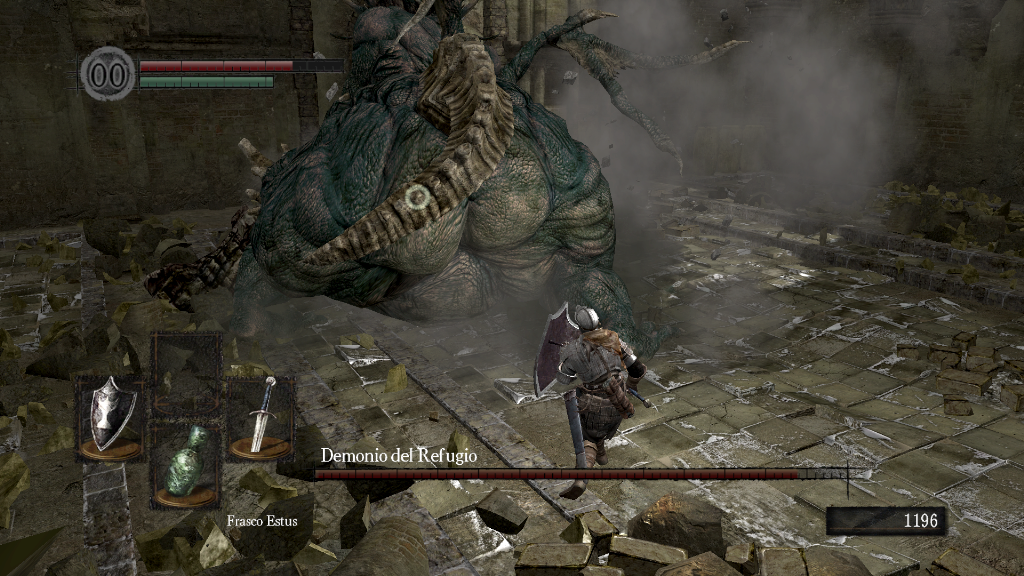asylumDemon: (253, 2, 683, 380)
bossHP: (314, 469, 847, 479)
health: (138, 58, 343, 71)
humanity: (80, 45, 136, 102)
player: (531, 300, 658, 501)
souls: (825, 506, 945, 536)
stamina: (138, 74, 274, 88)
